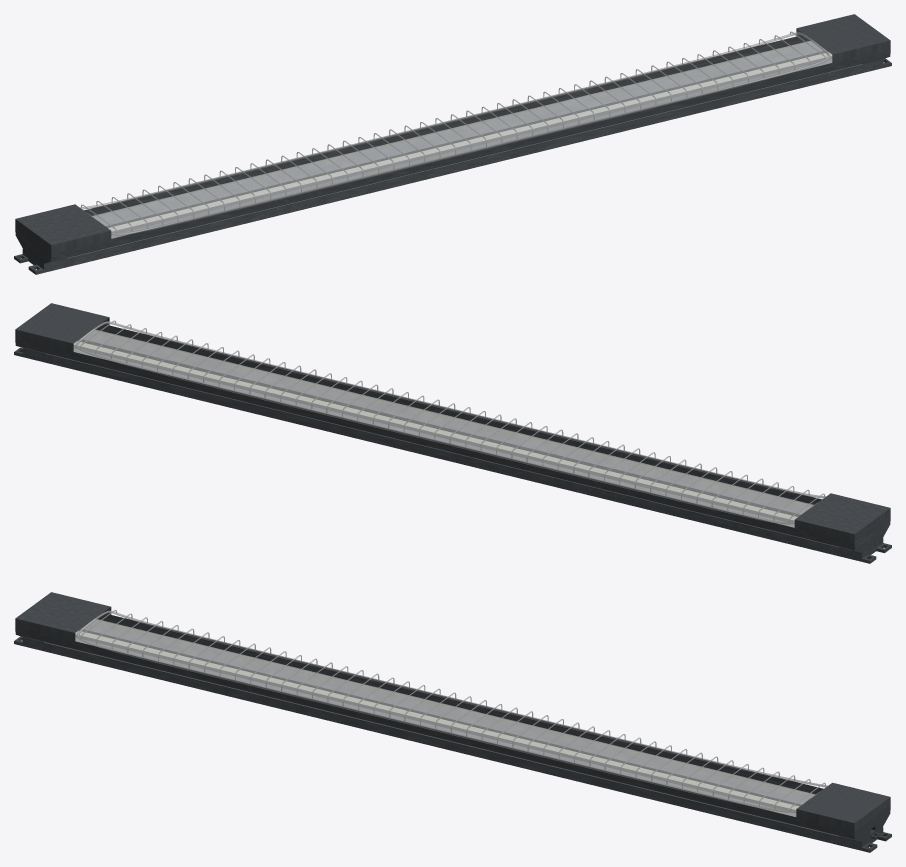
File: Lampara.glb
3 renders of one model, top to bottom at view 1: azimuth 30°, elevation 25°; view 2: azimuth 150°, elevation 25°; view 3: azimuth 330°, elevation 25°, orthographic.
Visible parts, largest first — view 1: Box1.004, Cylinder.002, Cylinder.001, Box1.002, Box1.003; view 2: Box1.004, Cylinder.001, Cylinder.002, Box1.002, Box1.003; view 3: Box1.004, Cylinder.002, Cylinder.001, Box1.002, Box1.003.
Boxes of the visible parts, x1,y1,x2,y2 form: Box1.004: (14, 14, 891, 274); Cylinder.002: (92, 41, 831, 230); Cylinder.001: (75, 52, 860, 256); Box1.002: (80, 31, 825, 233); Box1.003: (80, 32, 830, 235); Box1.004: (14, 303, 891, 563); Cylinder.001: (74, 330, 813, 519); Cylinder.002: (74, 341, 797, 527); Box1.002: (80, 320, 825, 522); Box1.003: (75, 321, 825, 524); Box1.004: (14, 592, 891, 852); Cylinder.002: (75, 619, 814, 809); Cylinder.001: (45, 631, 830, 834); Box1.002: (80, 610, 825, 811); Box1.003: (76, 610, 827, 812).
Size of the model in its own units: 0.8138 by 0.0299 by 0.0614.
3 materials, 1 textured.
